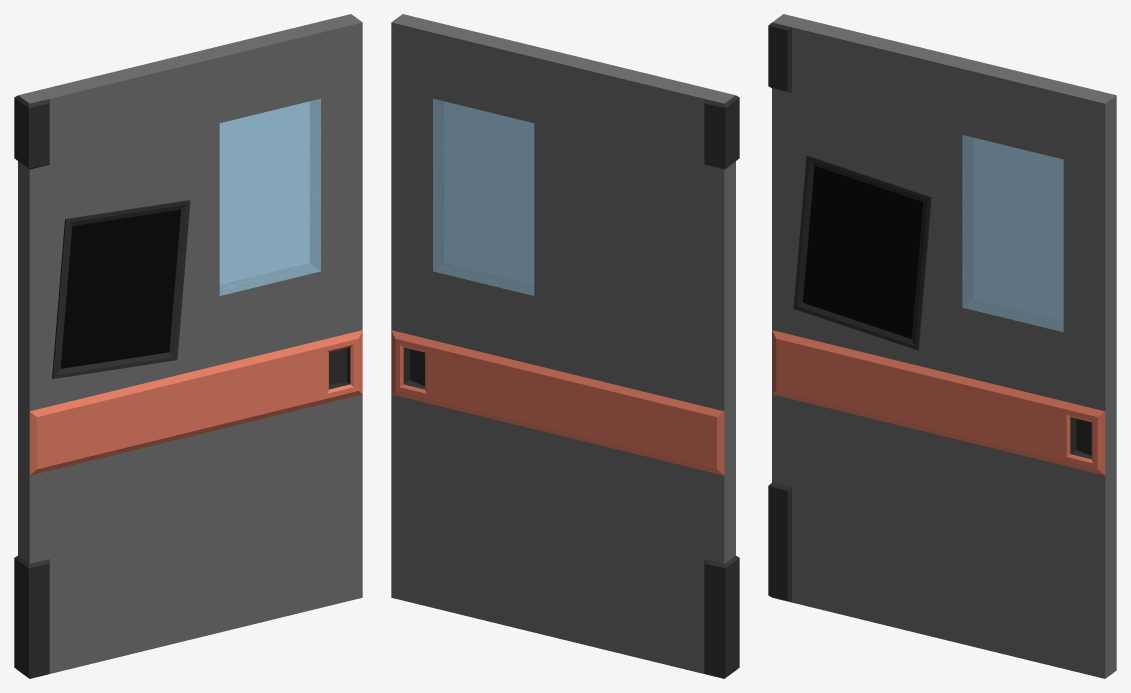
3 renders of one model, left to right at view 1: azimuth 30°, elevation 25°; view 2: azimuth 150°, elevation 25°; view 3: azimuth 330°, elevation 25°, orthographic.
Parts seen in each view (by area): view 1: Door-00, BlackBoard, Door-01; view 2: Door-00, Door-01; view 3: Door-00, BlackBoard, Door-01.
Boxes of the visible parts, x1=… form: Door-00: x1=14, y1=14, x2=362, y2=678; BlackBoard: x1=52, y1=200, x2=190, y2=378; Door-01: x1=219, y1=98, x2=320, y2=295; Door-00: x1=391, y1=14, x2=739, y2=678; Door-01: x1=433, y1=98, x2=534, y2=295; Door-00: x1=768, y1=14, x2=1116, y2=678; BlackBoard: x1=793, y1=155, x2=931, y2=350; Door-01: x1=962, y1=135, x2=1063, y2=332.
Bounding box in the file's own units: 26.86 × 44 × 2.13.
